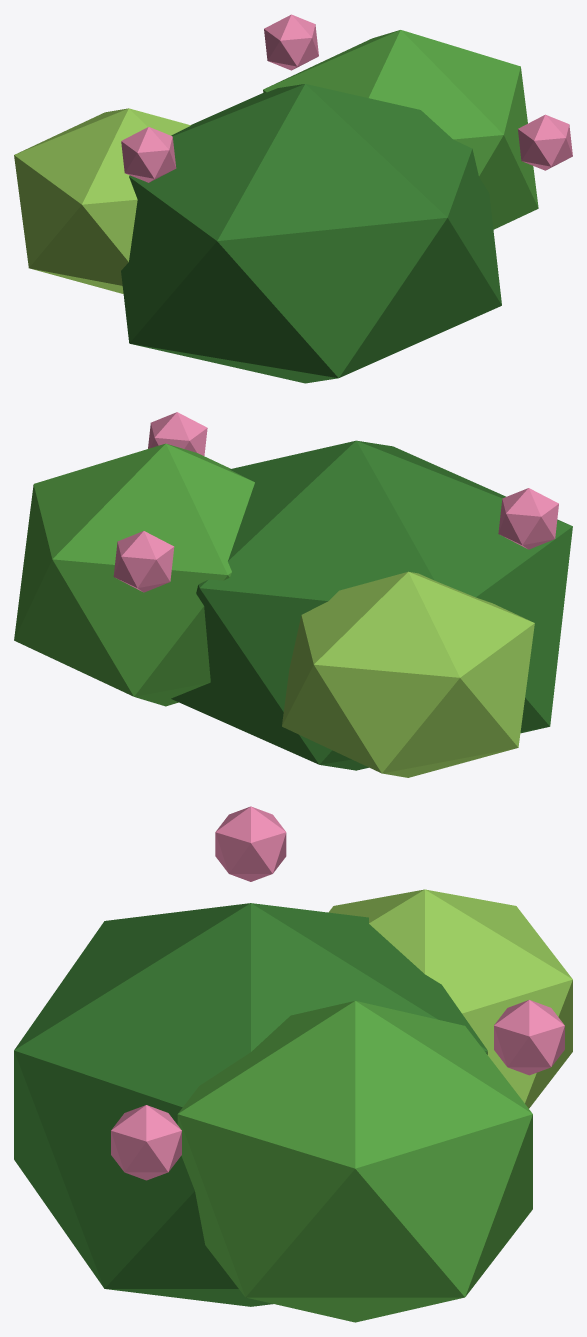
File: bush.fbx
3 renders of one model, top to bottom at view 1: azimuth 30°, elevation 25°; view 2: azimuth 150°, elevation 25°; view 3: azimuth 270°, elevation 25°, orthographic. The views are drawn at different scales.
Parts seen in each view (by area): view 1: bush; view 2: bush; view 3: bush.
Part boxes in pixels (x1=…): bush: x1=14, y1=14, x2=572, y2=383; bush: x1=14, y1=412, x2=572, y2=777; bush: x1=14, y1=806, x2=572, y2=1322.
Bounding box in the file's own units: 0.2084 × 0.128 × 0.1606.
